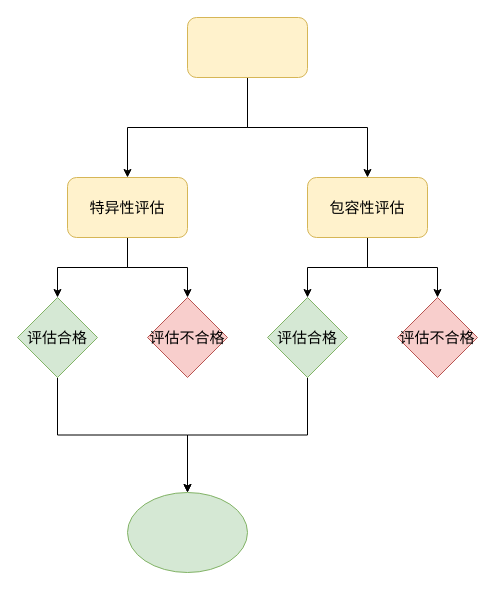
Some shapes in this 495 by 590 pixel diagram are drawn without their labels. The shapes that lost their labels are listed below. From the top down, each one's centre as x and y in pixels, then its label:
pixel 247 47: 引物评估
pixel 187 532: 可使用引物对
